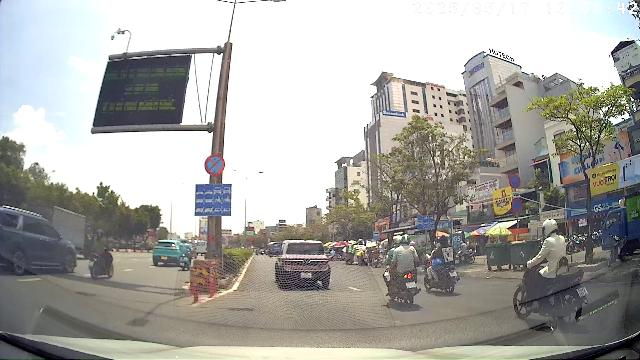130-cam-dung-va-do-xe: (204, 154, 226, 176)
